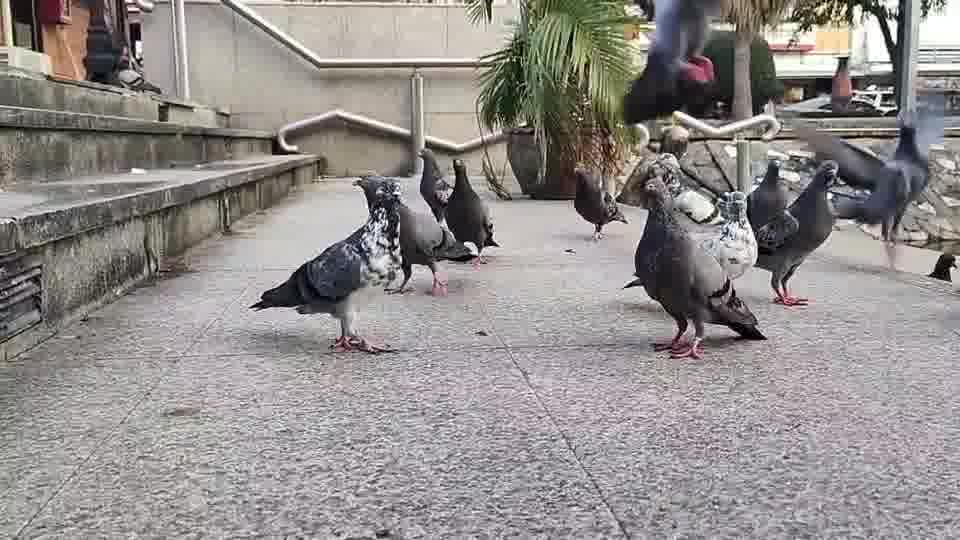Pigeon: (248, 174, 406, 354), (622, 175, 767, 360), (801, 107, 931, 244), (350, 174, 480, 297), (750, 158, 840, 306), (443, 157, 501, 266), (572, 165, 628, 240), (745, 158, 800, 232), (416, 147, 453, 223), (925, 252, 957, 281)
